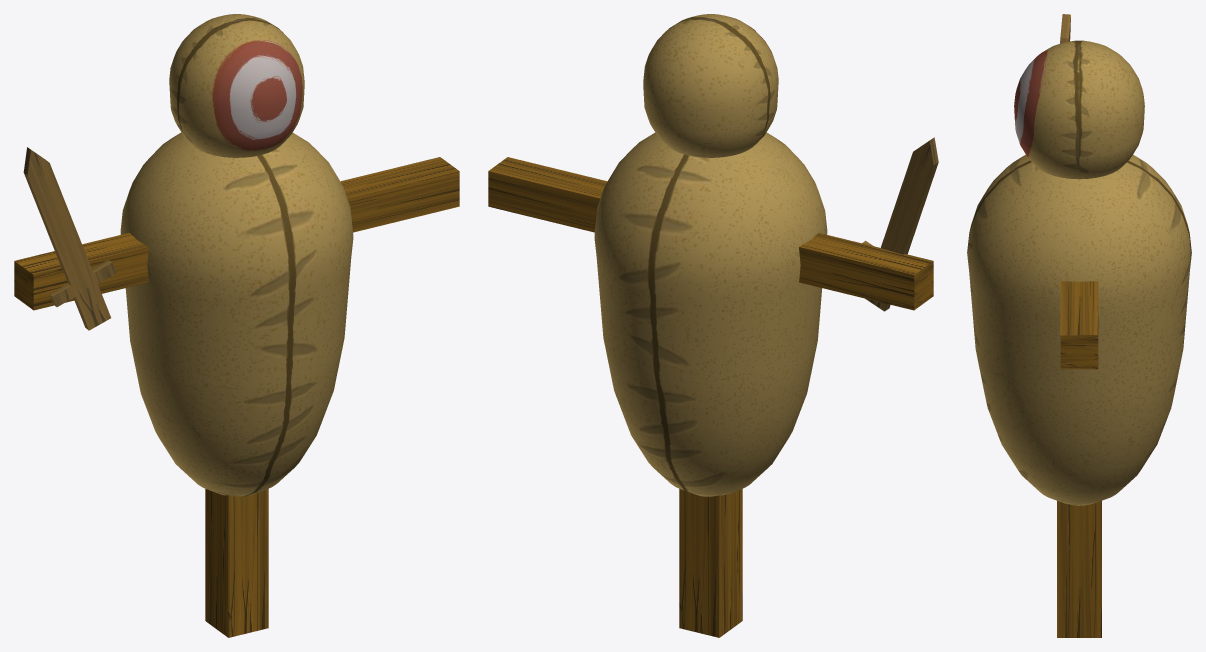
The model's file is dummy.glb.
3 views of the same model, side by side, from view 1: azimuth 30°, elevation 25°; view 2: azimuth 150°, elevation 25°; view 3: azimuth 270°, elevation 25° (orthographic). The views are drawn at different scales.
Parts seen in each view (by area): view 1: stand stick_Material_0; view 2: stand stick_Material_0; view 3: stand stick_Material_0.
Boxes of the visible parts, x1,y1,x2,y2 form: stand stick_Material_0: (14,14,459,637); stand stick_Material_0: (488,14,938,637); stand stick_Material_0: (967,14,1191,637).
Bounding box in the file's own units: 1.27 × 1.7 × 0.5952.
1 material, 1 textured.
